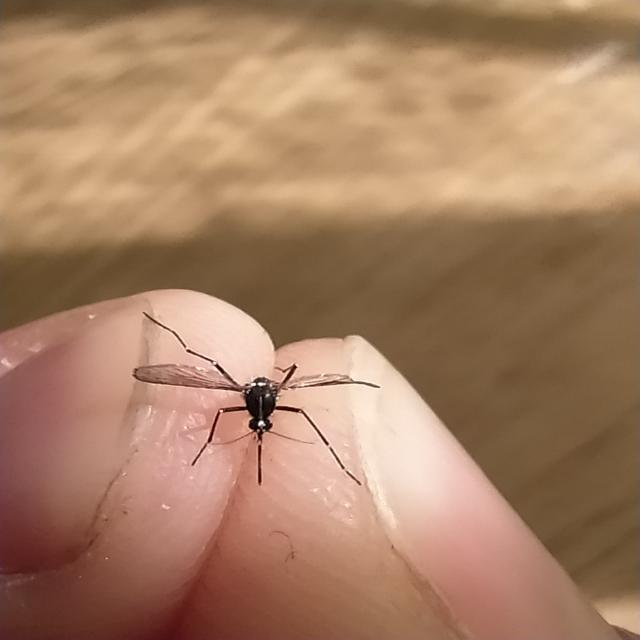albopictus: (124, 297, 383, 496)
